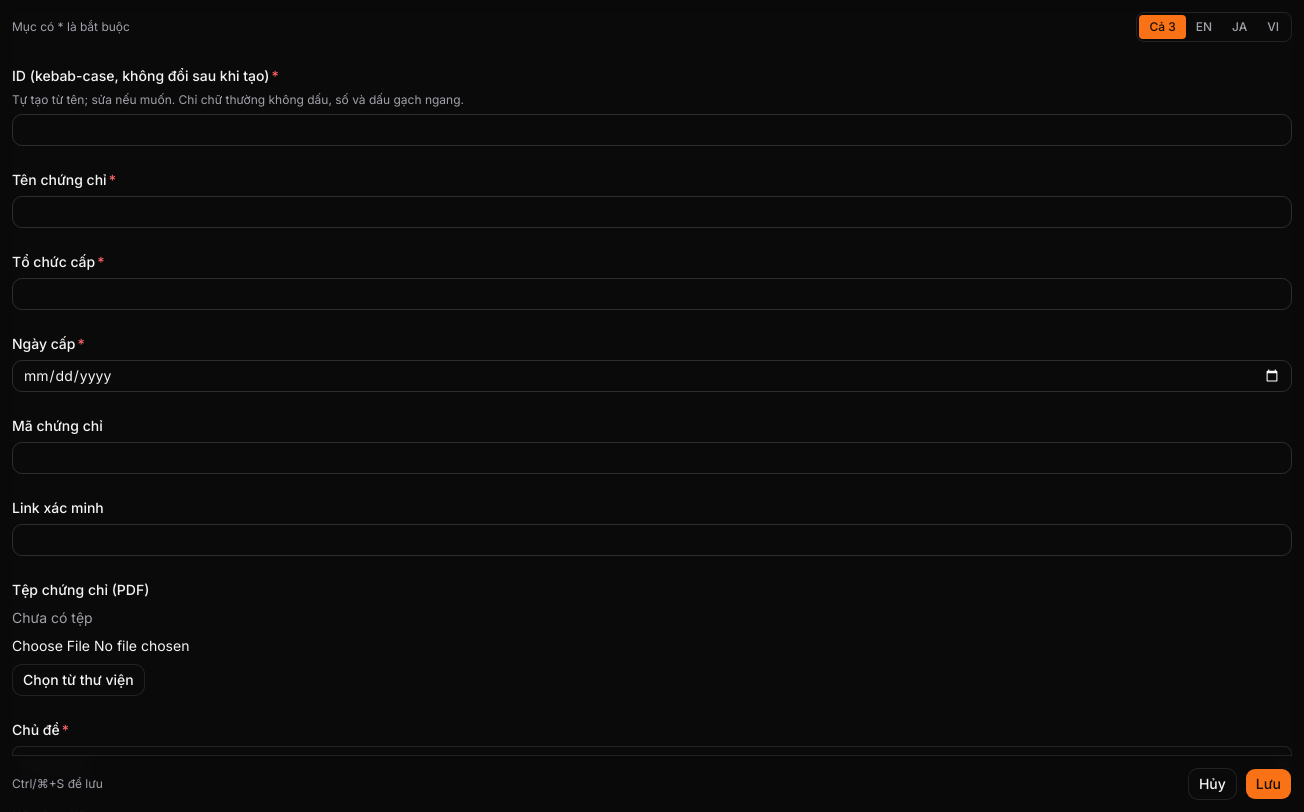
form validation › lists every problem in a focused summary instead of saving
Click the button "Lưu". click: (1268, 784)
box: [1245,768,1292,800]
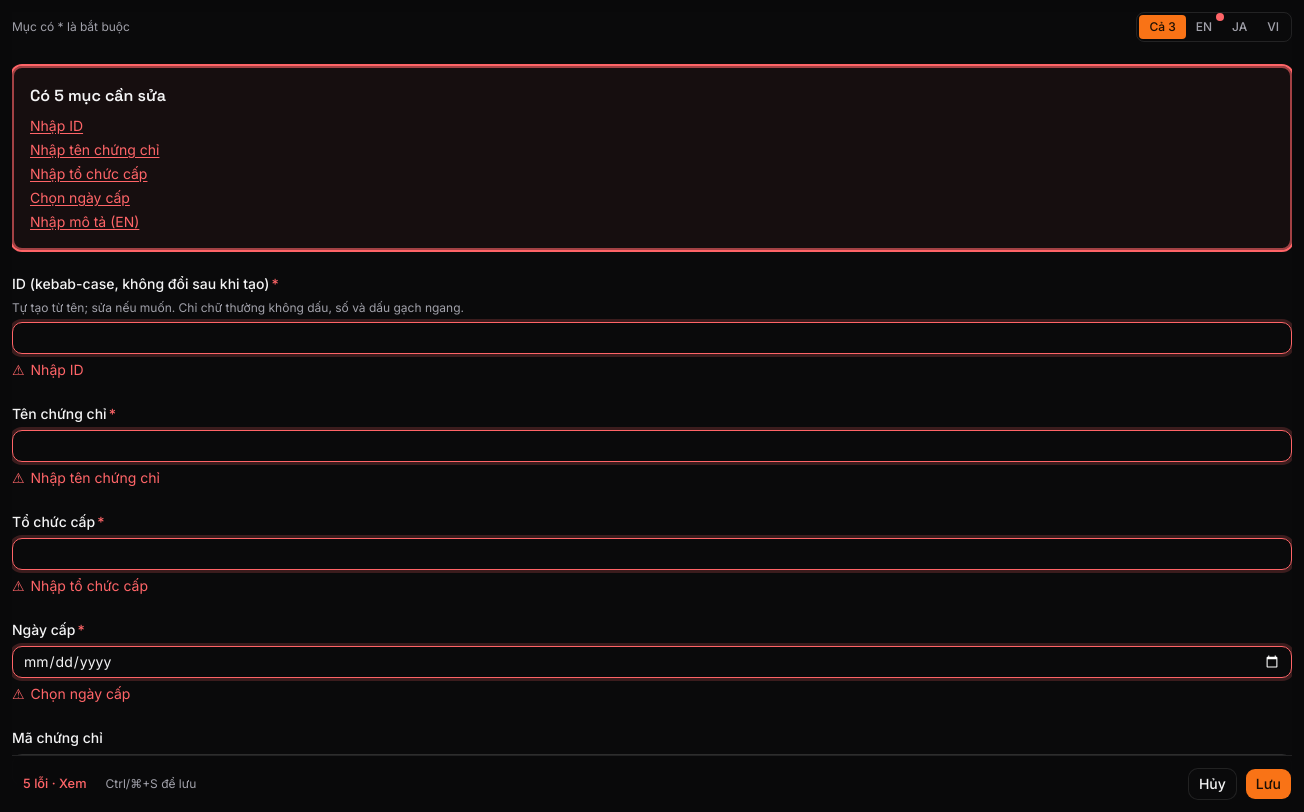
Expected: the element "mục cần sửa" is shown, [12,66,1292,250]
Expected: the heading "Có 5 mục cần sửa" is shown, [30,85,166,106]
Expected: the links read "Nhập ID", "Nhập tên chứng chỉ", "Nhập tổ chức cấp", "Chọn ngày cấp", "Nhập mô tả (EN)", in this order, [30,117,83,134]; [30,141,159,158]; [30,165,147,182]; [30,189,130,206]; [30,213,139,230]
